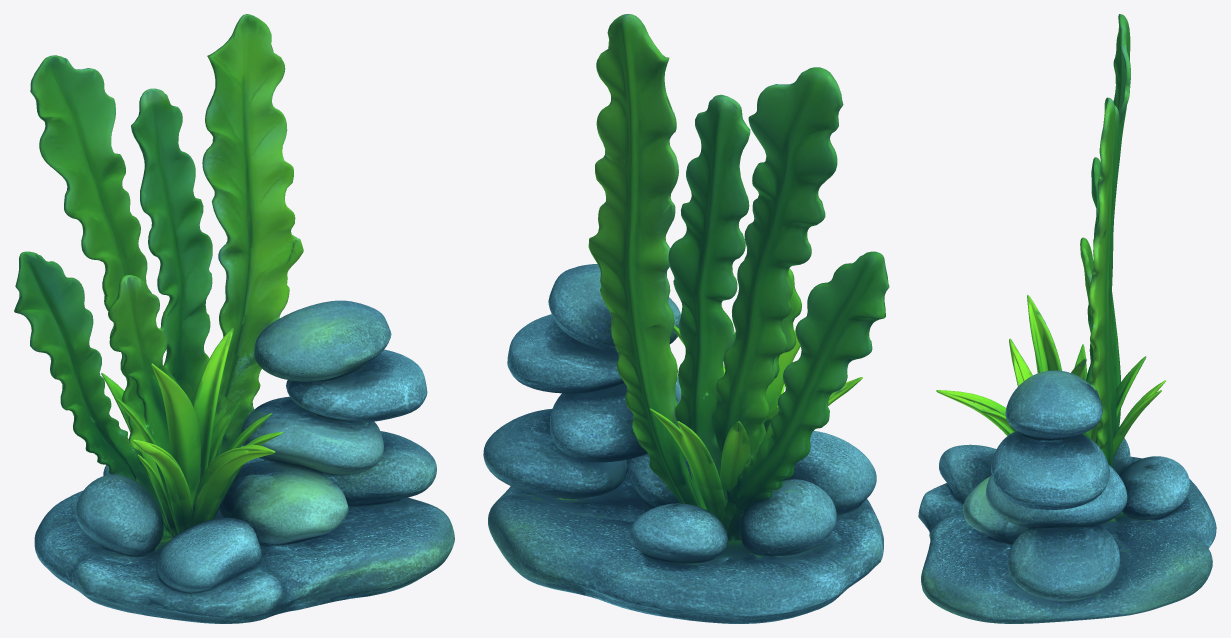
The model's file is pixellabs-aquarium-plant-4590.glb.
3 renders of one model, left to right at view 1: azimuth 30°, elevation 25°; view 2: azimuth 150°, elevation 25°; view 3: azimuth 270°, elevation 25°, orthographic. The views are drawn at different scales.
Visible parts, largest first — view 1: convert; view 2: convert; view 3: convert.
Part boxes in pixels (x1,y1,x2,y2): convert: [14, 14, 454, 623]; convert: [483, 14, 889, 623]; convert: [918, 14, 1216, 623].
Bounding box in the file's own units: 0.7754 × 0.9664 × 0.5538.
Materials: 1 (1 with a texture image).
